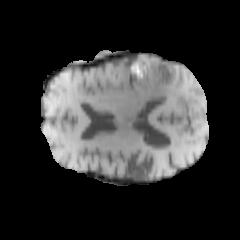glioma: (102, 53, 183, 104)
